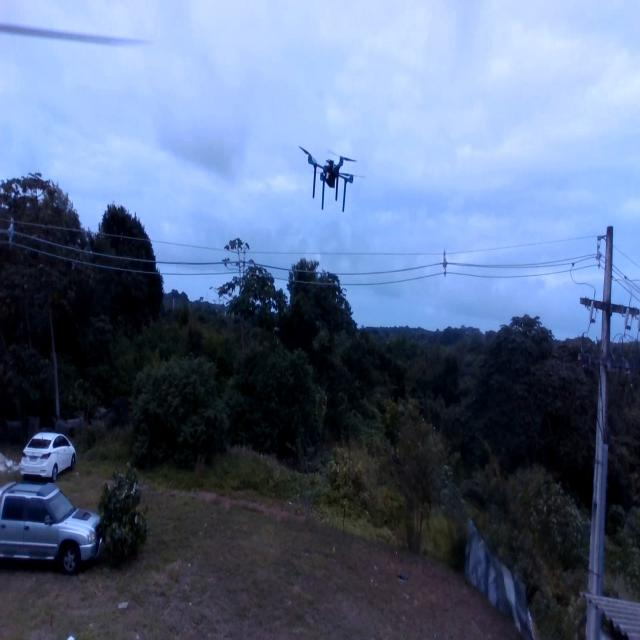-uav-: (295, 130, 370, 226)
